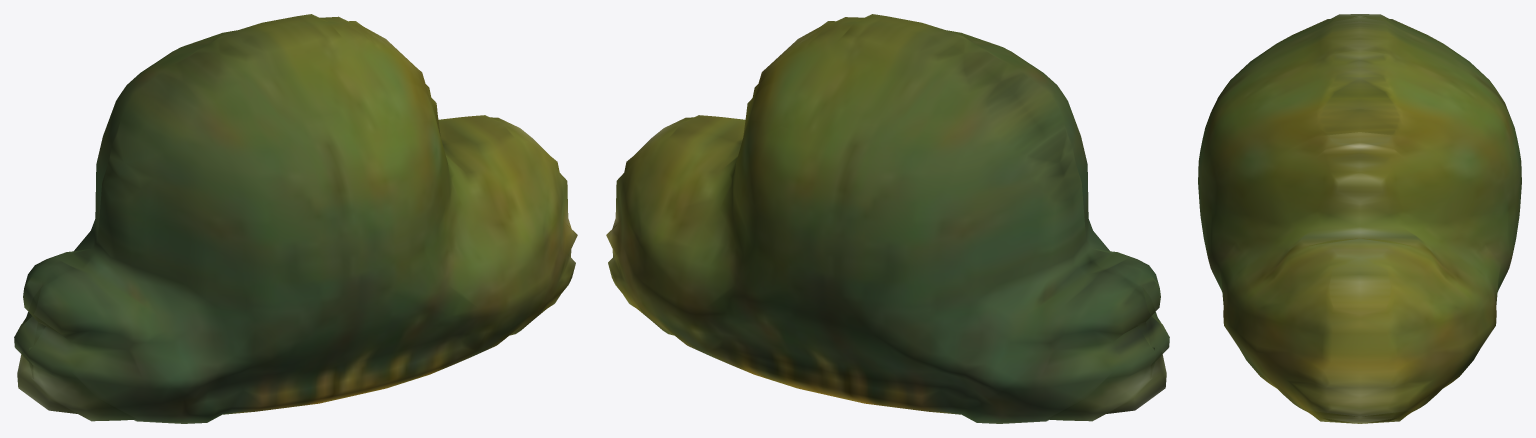
The model's file is 01_rocks_and_bushes_r03_c08.glb.
3 views of the same model, side by side, from view 1: azimuth 30°, elevation 25°; view 2: azimuth 150°, elevation 25°; view 3: azimuth 270°, elevation 25° (orthographic). The views are drawn at different scales.
Visible parts, largest first — view 1: 01_rocks_and_bushes_r03_c08; view 2: 01_rocks_and_bushes_r03_c08; view 3: 01_rocks_and_bushes_r03_c08.
Part boxes in pixels (left/top/right/bottom): 01_rocks_and_bushes_r03_c08: left=14, top=14, right=577, bottom=423; 01_rocks_and_bushes_r03_c08: left=606, top=14, right=1169, bottom=423; 01_rocks_and_bushes_r03_c08: left=1198, top=14, right=1521, bottom=423.
Bounding box in the file's own units: 1.17 × 0.6998 × 0.7021.
Materials: 1 (1 with a texture image).
